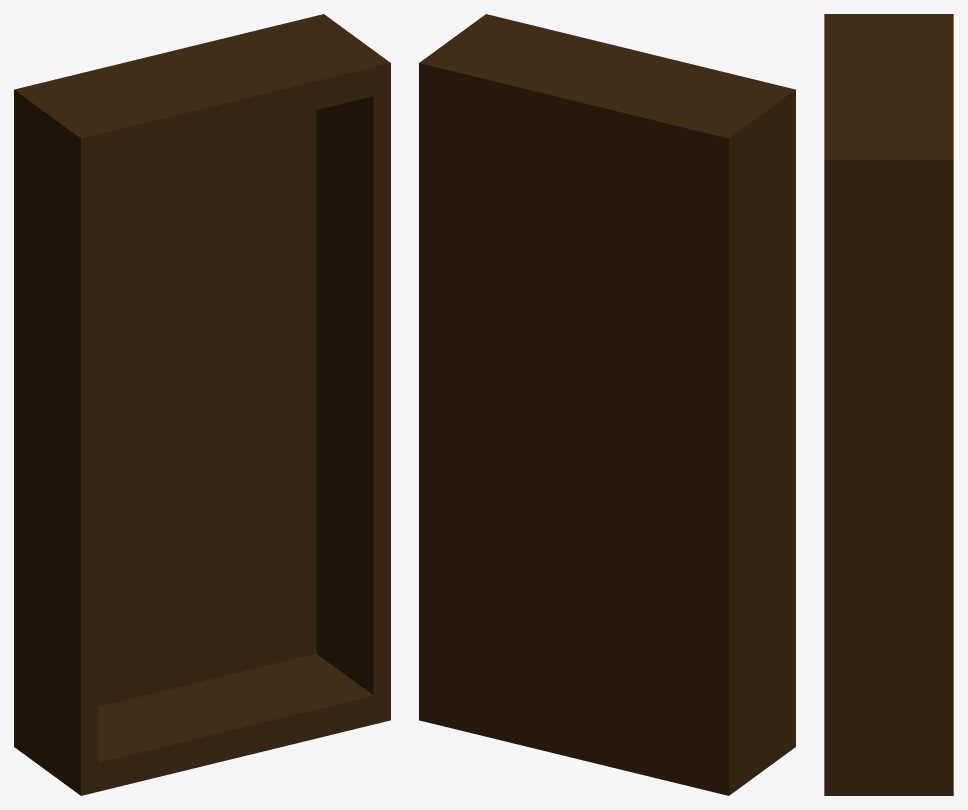
Rendered from Estanteria3.fbx.
The picture shows the model from 3 angles, left to right: view 1: azimuth 30°, elevation 25°; view 2: azimuth 150°, elevation 25°; view 3: azimuth 270°, elevation 25°; orthographic projection. The views are drawn at different scales.
Parts seen in each view (by area): view 1: Estanteria4.001; view 2: Estanteria4.001; view 3: Estanteria4.001.
Boxes of the visible parts, bbox=[...] form: Estanteria4.001: bbox=[14, 14, 390, 795]; Estanteria4.001: bbox=[419, 14, 795, 795]; Estanteria4.001: bbox=[824, 14, 953, 795].
Bounding box in the file's own units: 99.11 × 201 × 37.12.
